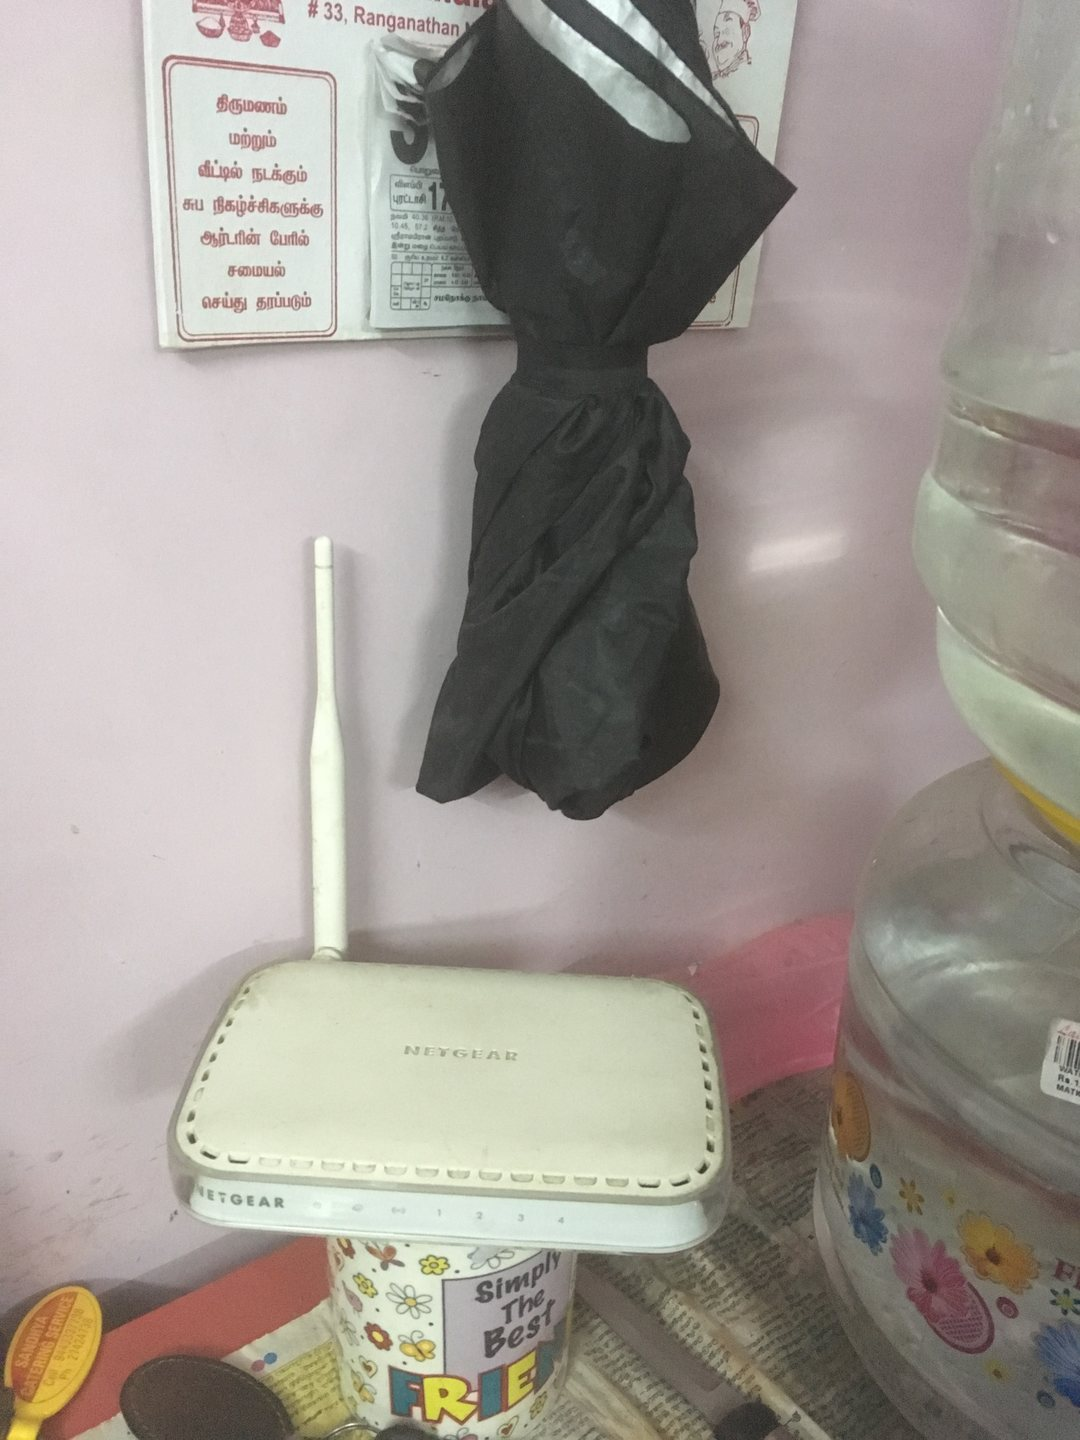NETGEAR: (191, 1181, 293, 1215)
modem: (157, 1144, 741, 1252)
